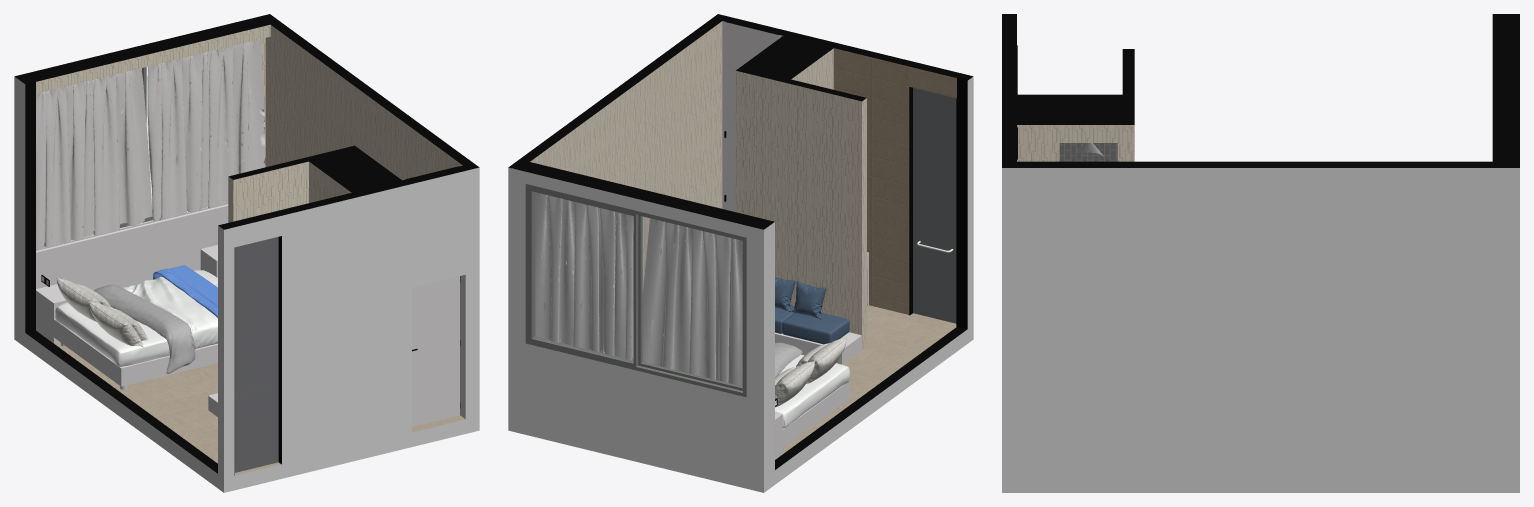
File: room-b.glb
3 views of the same model, side by side, from view 1: azimuth 30°, elevation 25°; view 2: azimuth 150°, elevation 25°; view 3: azimuth 270°, elevation 25° (orthographic). The views are drawn at different scales.
Parts seen in each view (by area): view 1: Geom3D (×10), Geom3D_RE_Part11, Geom3D_3DGeom~1_Defintion_3DGeom~1; view 2: Geom3D (×13), Geom3D_RE_Part11, Geom3D_3DGeom~1_Defintion_3DGeom~1; view 3: Geom3D_RE_Part11, Geom3D (×3).
Part boxes in pixels (<box>): Geom3D (×10): <box>15,14,479,475</box>; Geom3D_RE_Part11: <box>14,76,479,492</box>; Geom3D_3DGeom~1_Defintion_3DGeom~1: <box>36,39,265,250</box>; Geom3D (×13): <box>508,14,972,469</box>; Geom3D_RE_Part11: <box>508,76,973,492</box>; Geom3D_3DGeom~1_Defintion_3DGeom~1: <box>535,192,742,386</box>; Geom3D_RE_Part11: <box>1002,143,1519,492</box>; Geom3D (×3): <box>1002,14,1519,167</box>.
Size of the model in its own units: 3.66 by 3.6 by 5.2.
Materials: 34 (34 with a texture image).
